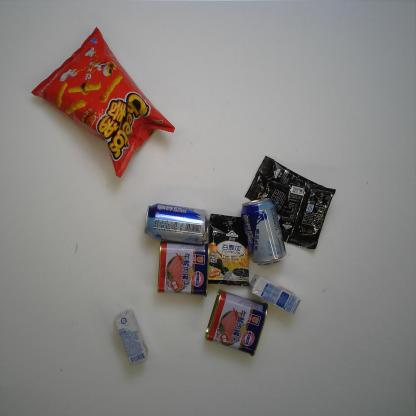Alcohol: (240, 198, 286, 267), (142, 202, 211, 245)
Canned Food: (204, 289, 272, 357), (155, 240, 212, 298)
Instant Drink: (243, 153, 330, 219), (275, 173, 339, 250), (203, 211, 257, 288)
Milk: (112, 306, 150, 365), (246, 274, 302, 314)
Puffed Food: (27, 22, 177, 178)
